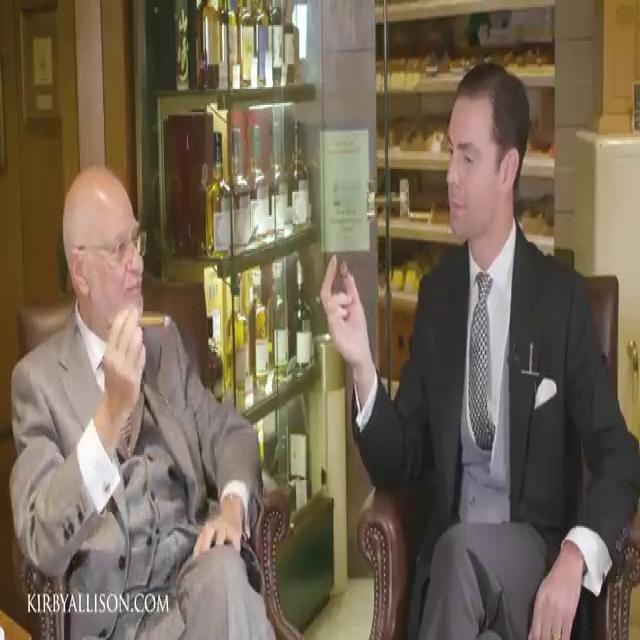Smooking: (138, 310, 174, 336), (335, 255, 352, 289)
